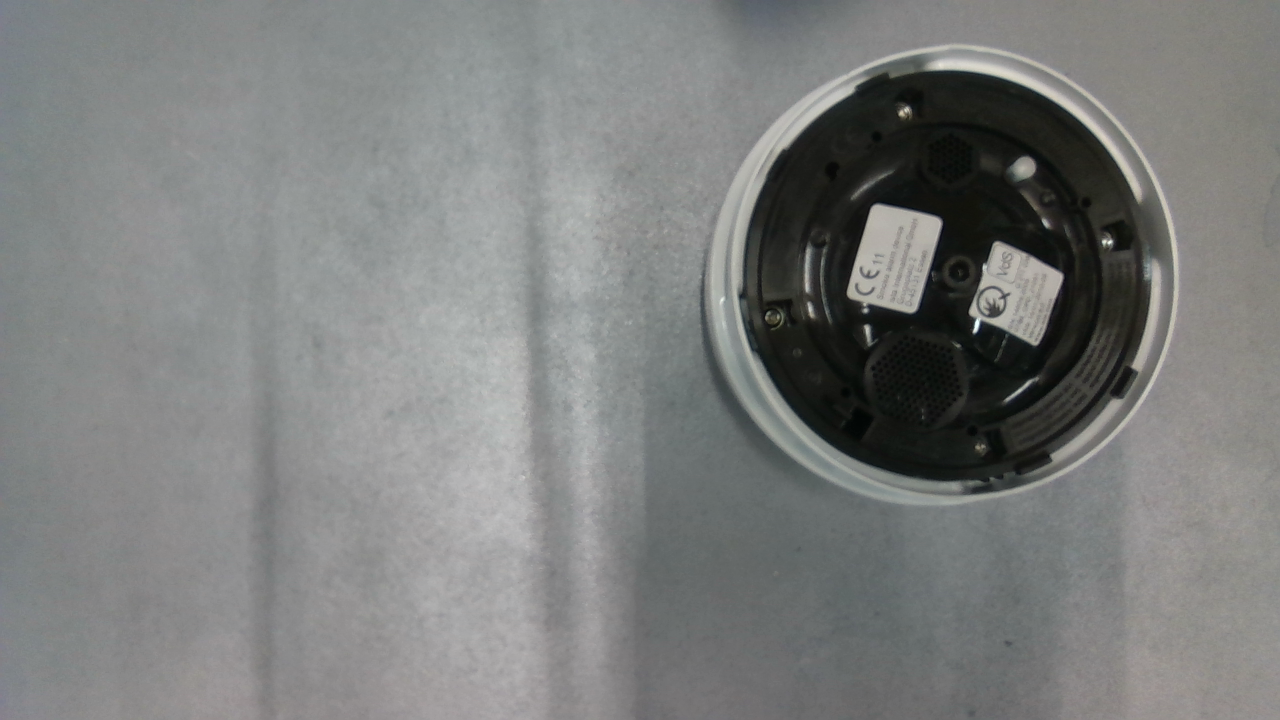HexScrew: (761, 305, 792, 334), (968, 432, 997, 457), (895, 96, 914, 121), (1100, 229, 1119, 253)
